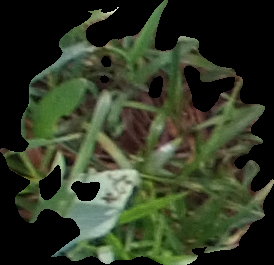grass: (1, 1, 273, 264)
